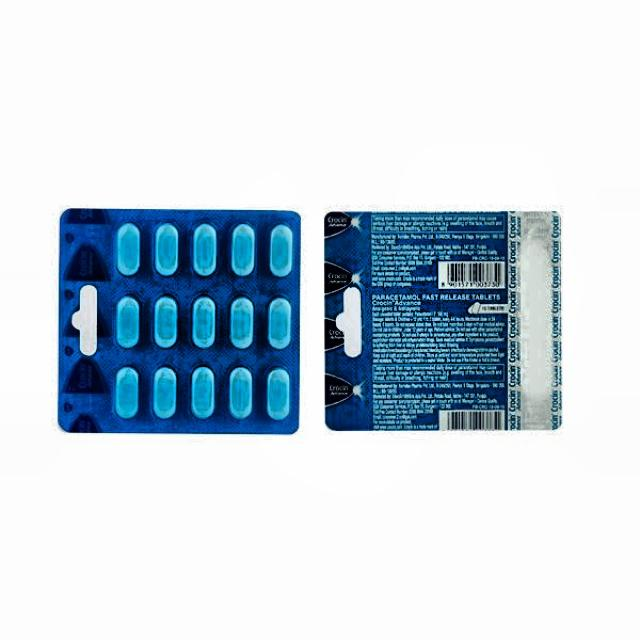Crocin: (320, 216, 378, 427)
